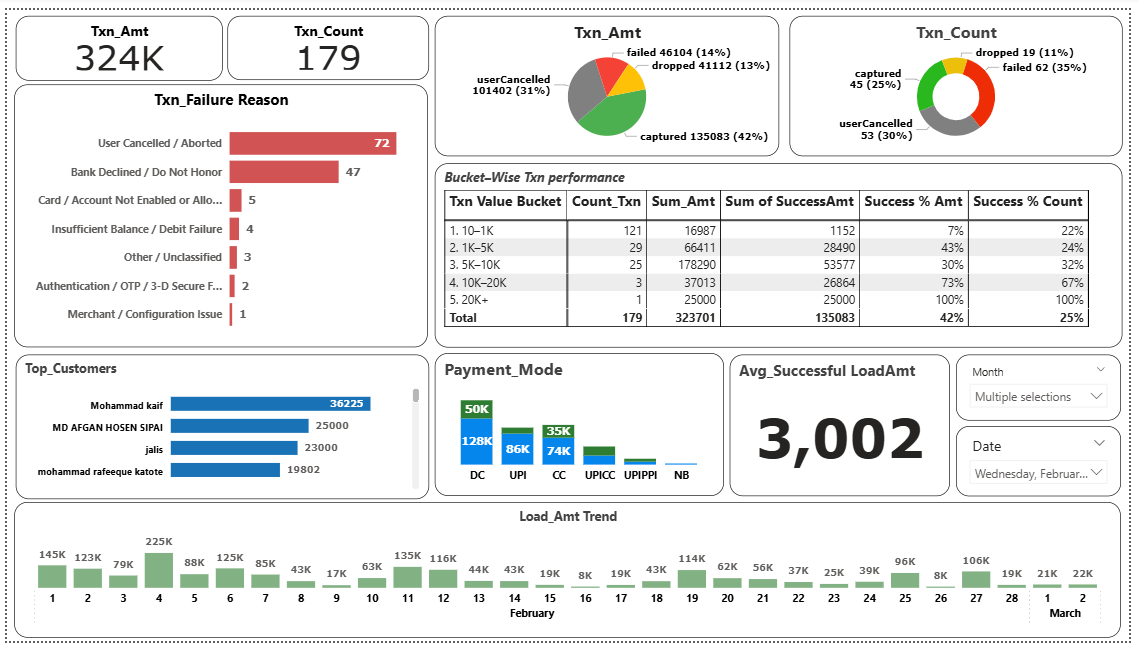

The dashboard page shown, as its layout file describes it:
{"tool":"powerbi","page":{"name":"Txn_Report","canvas":[1280,720],"ordinal":0},"visuals":[{"type":"card","title":"Txn_Amt","fields":{"Values":["Sum(DataTxn.amount)"]},"box":[10,6.2,236.2,73.8],"z":0},{"type":"card","title":"Txn_Count","fields":{"Values":["CountNonNull(DataTxn.txnid)"]},"box":[251.9,6.6,230,73.3],"z":1000},{"type":"pieChart","title":"Txn_Amt","fields":{"Category":["DataTxn.status"],"Y":["Sum(DataTxn.amount)"]},"box":[488.3,6.7,393.3,160],"z":2000},{"type":"donutChart","title":"Txn_Count","fields":{"Category":["DataTxn.status"],"Y":["CountNonNull(DataTxn.txnid)"]},"box":[893.3,6.7,380,160],"z":3000},{"type":"slicer","fields":{"Values":["DataTxn.addedon.Variation.Date Hierarchy.Month"]},"box":[1083.3,393.3,188.3,75],"z":4000},{"type":"barChart","title":"Top_Customers","fields":{"Y":["Sum(DataTxn.amount)"],"Category":["DataTxn.firstname"]},"box":[10,393.3,471.7,165],"z":5000},{"type":"slicer","fields":{"Values":["DataTxn.Date"]},"box":[1083.3,475,188.3,80],"z":6000},{"type":"columnChart","title":"Load_Amt Trend","fields":{"Y":["Sum(DataTxn.amount)"],"Category":["DataTxn.Date.Variation.Date Hierarchy.Month","DataTxn.Date.Variation.Date Hierarchy.Day"]},"box":[8.3,561.7,1263.3,155],"z":7000},{"type":"pivotTable","title":"Bucket–Wise Txn performance","fields":{"Rows":["DataTxn.Txn Value Bucket"],"Values":["DataTxn.Count_Txn","DataTxn.Sum_Amt","DataTxn.Sum of SuccessAmt","DataTxn.Success % Amt","DataTxn.Success % Count"]},"box":[488.3,175,785,210],"z":8000},{"type":"card","title":"Avg_Successful LoadAmt","fields":{"Values":["DataTxn.Avg Successful Load Amount"]},"box":[825,393.3,251.7,161.7],"z":9000},{"type":"columnChart","title":"Payment_Mode","fields":{"Category":["DataTxn.mode"],"Y":["DataTxn.Sum_Amt","DataTxn.Sum of SuccessAmt"]},"box":[488.3,391.7,330,163.3],"z":10000},{"type":"barChart","title":"Txn_Failure Reason","fields":{"Category":["DataTxn.Category"],"Y":["DataTxn.Count_Txn"]},"box":[8.3,85,471.7,300],"z":11000}]}

Visuals, with their boxes in screenshot pixels (x1, y1, x2, y2), scaled from the page's 1280x720 canvas onto the 1139x646 screenshot:
"Txn_Amt" card: box=[9, 6, 219, 72]
"Txn_Count" card: box=[224, 6, 429, 72]
"Txn_Amt" pieChart: box=[435, 6, 784, 150]
"Txn_Count" donutChart: box=[795, 6, 1133, 150]
slicer - DataTxn.addedon.Variation.Date Hierarchy.Month: box=[964, 353, 1132, 420]
"Top_Customers" barChart: box=[9, 353, 429, 501]
slicer - DataTxn.Date: box=[964, 426, 1132, 498]
"Load_Amt Trend" columnChart: box=[7, 504, 1132, 643]
"Bucket–Wise Txn performance" pivotTable: box=[435, 157, 1133, 345]
"Avg_Successful LoadAmt" card: box=[734, 353, 958, 498]
"Payment_Mode" columnChart: box=[435, 351, 728, 498]
"Txn_Failure Reason" barChart: box=[7, 76, 427, 345]
